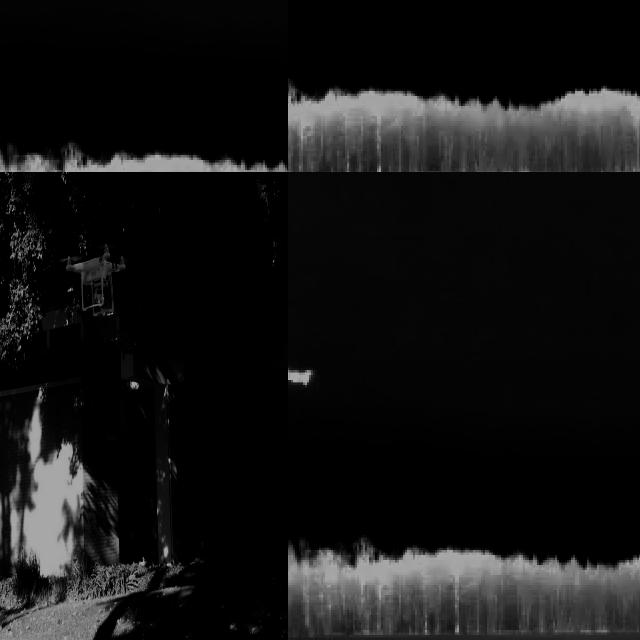1: (288, 360, 325, 395)
drone: (66, 248, 127, 313)
